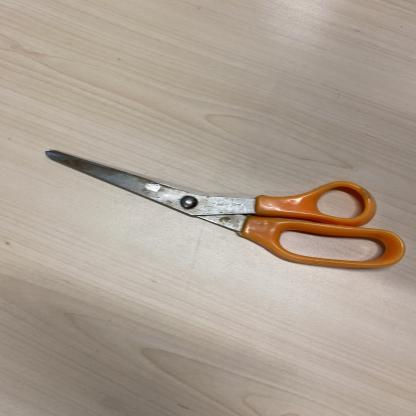scissors: (46, 146, 408, 272)
